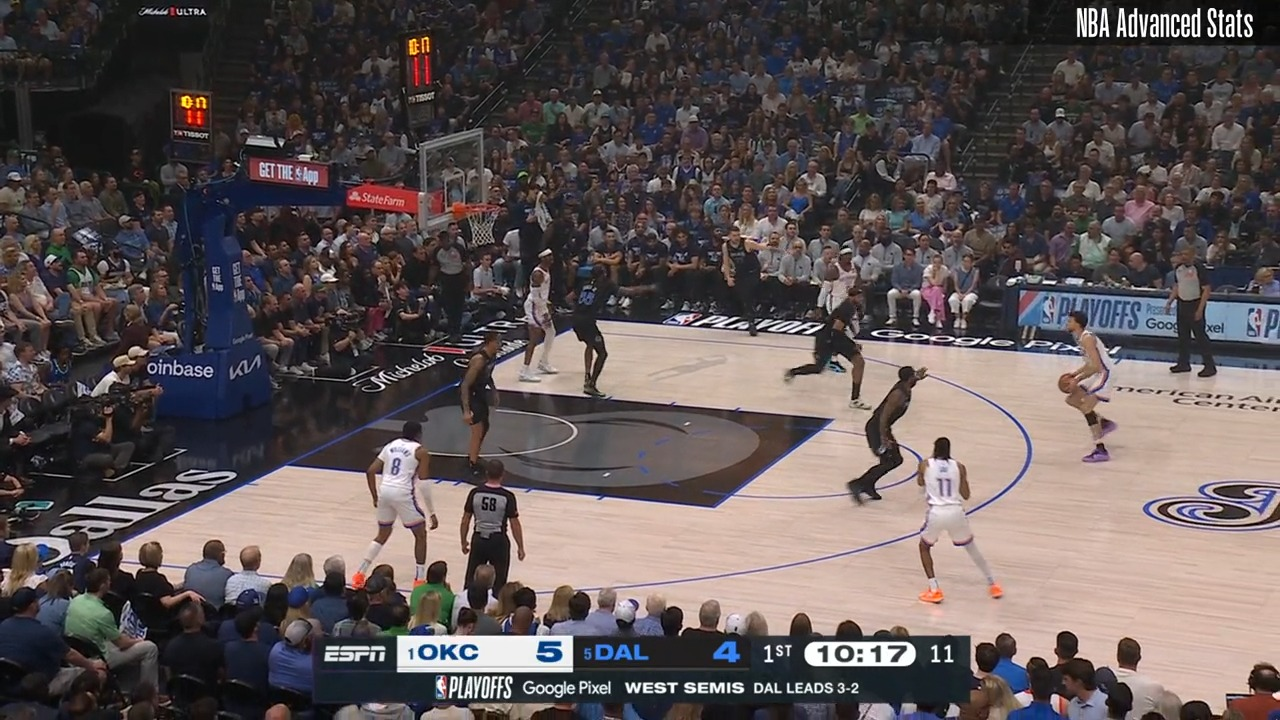basketball: (1057, 371, 1080, 396)
